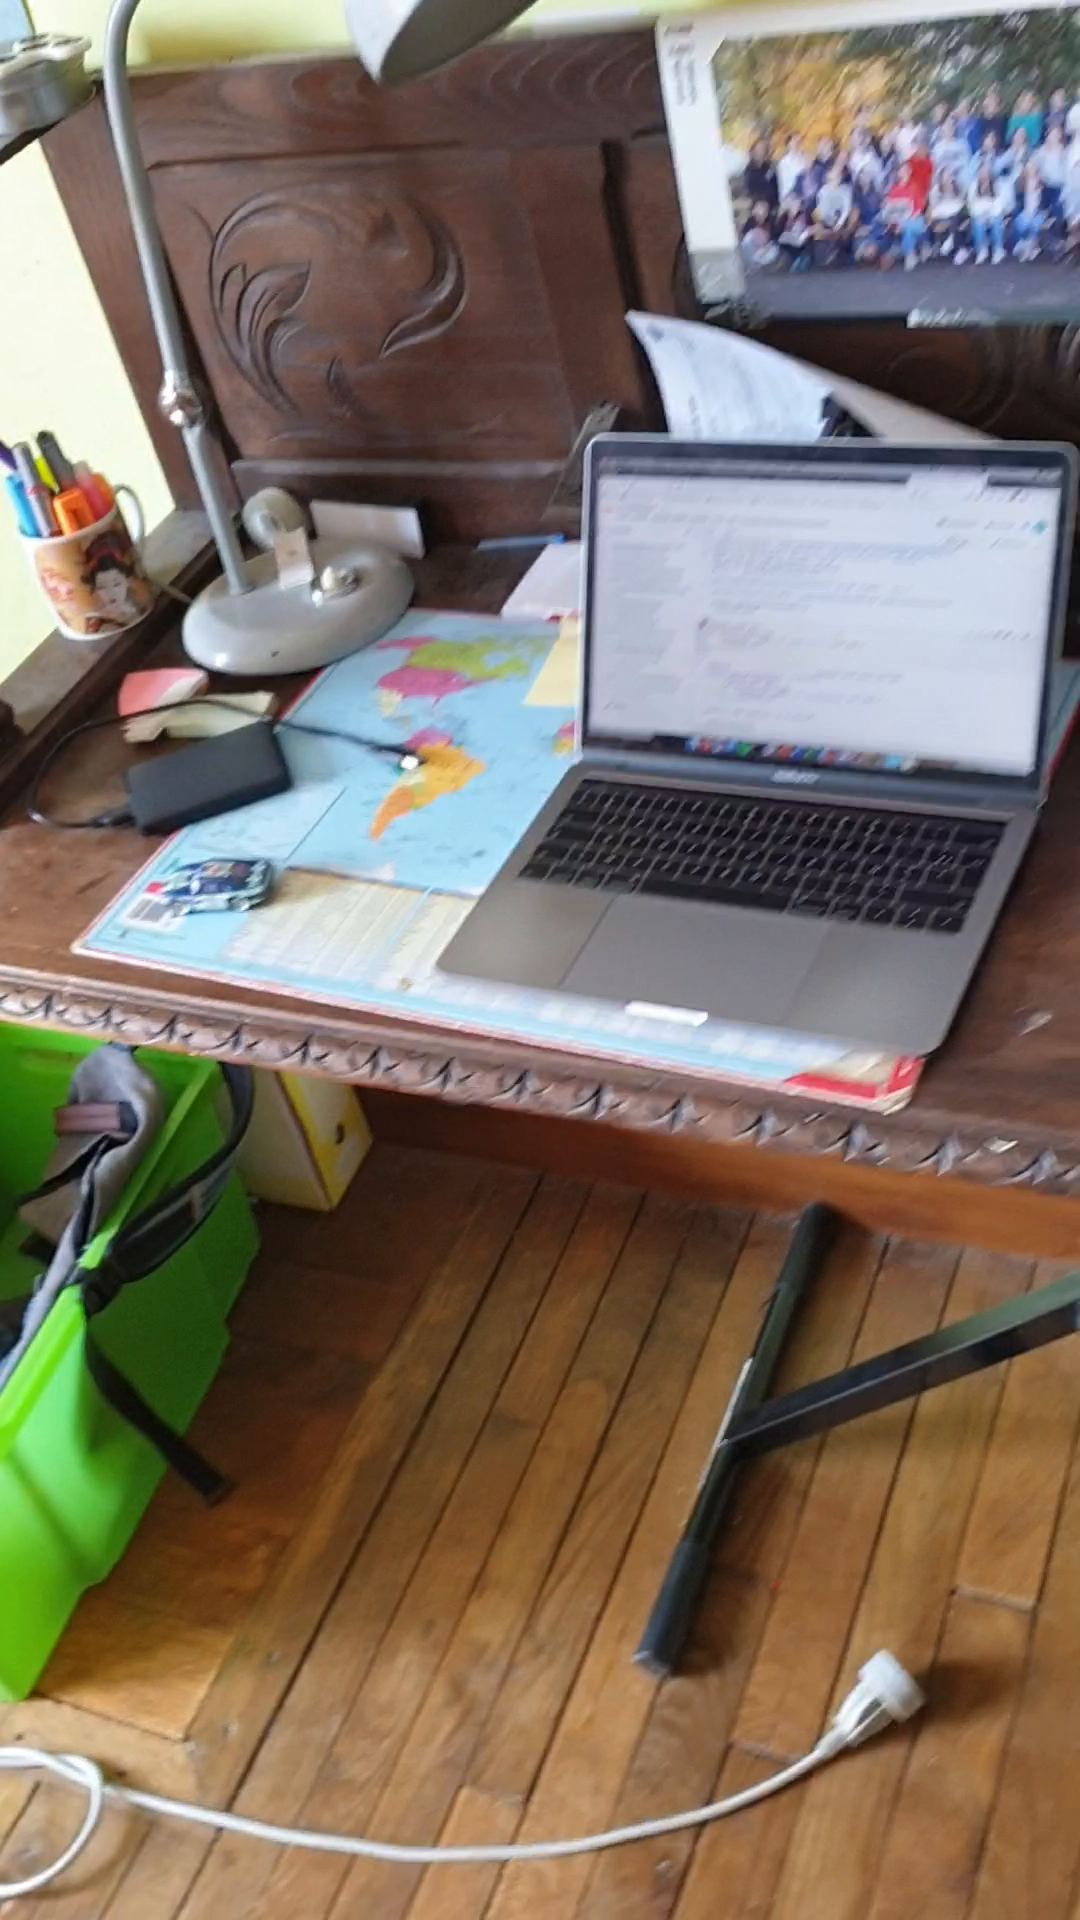cars: (156, 856, 276, 916)
